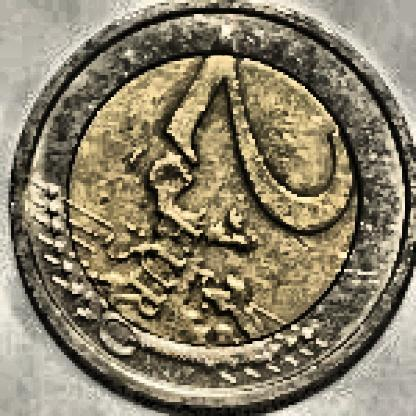coin: (11, 0, 413, 415)
